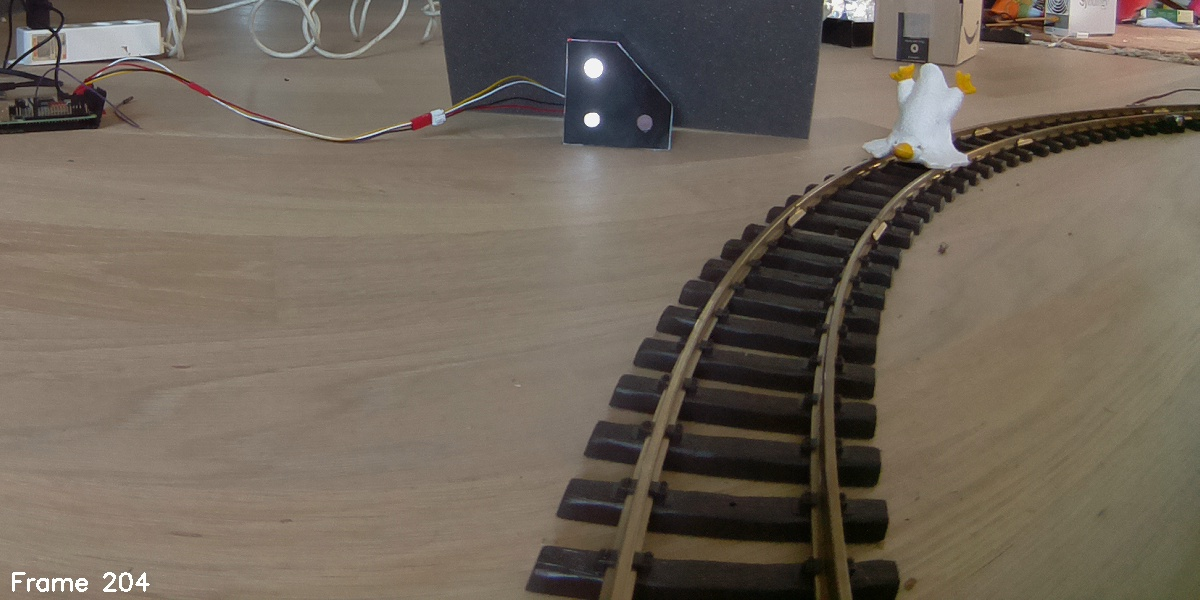Ente: (860, 57, 974, 174)
Fahrt: (563, 36, 676, 150)
